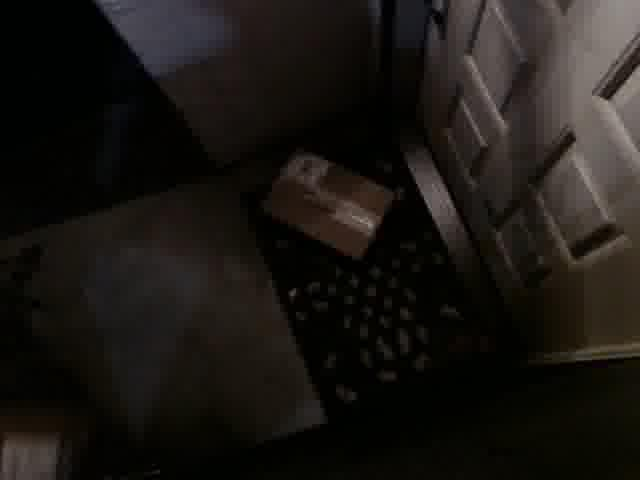box: (256, 147, 398, 266)
